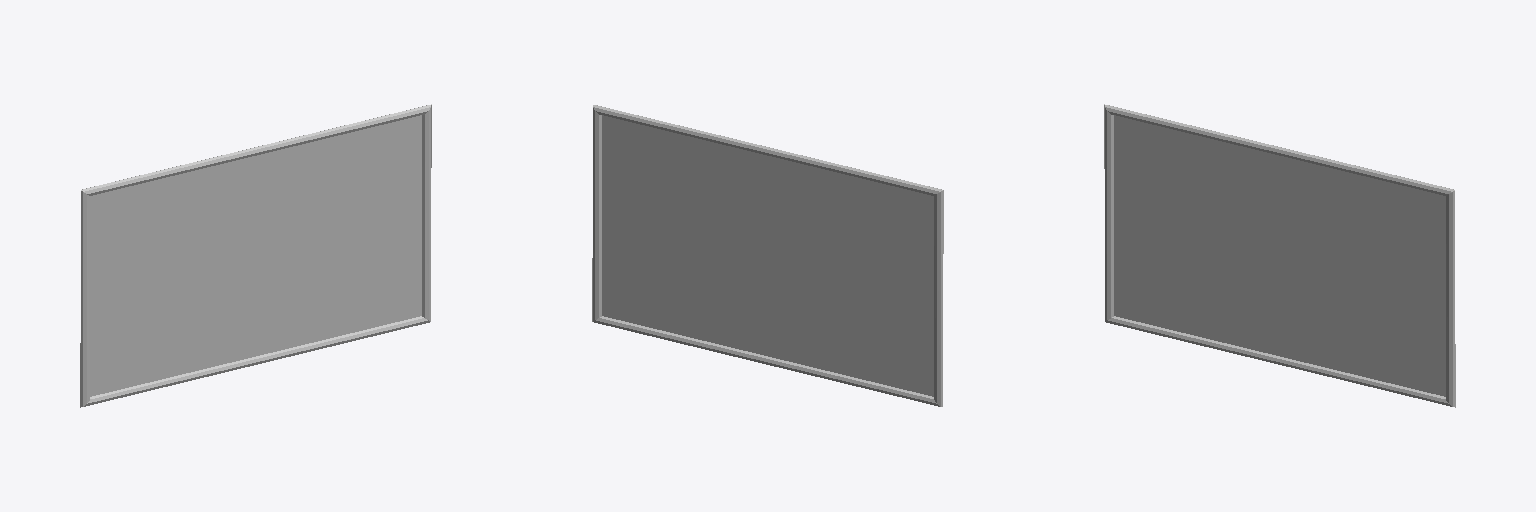
The model's file is picture_back.obj.
3 views of the same model, side by side, from view 1: azimuth 30°, elevation 25°; view 2: azimuth 150°, elevation 25°; view 3: azimuth 330°, elevation 25° (orthographic).
Visible parts, largest first — view 1: picture002; view 2: picture002; view 3: picture002.
Part boxes in pixels (left/top/right/bottom): picture002: left=80, top=104, right=431, bottom=407; picture002: left=592, top=105, right=943, bottom=406; picture002: left=1104, top=104, right=1455, bottom=407.
Size of the model in its own units: 112 by 66.05 by 2.16.